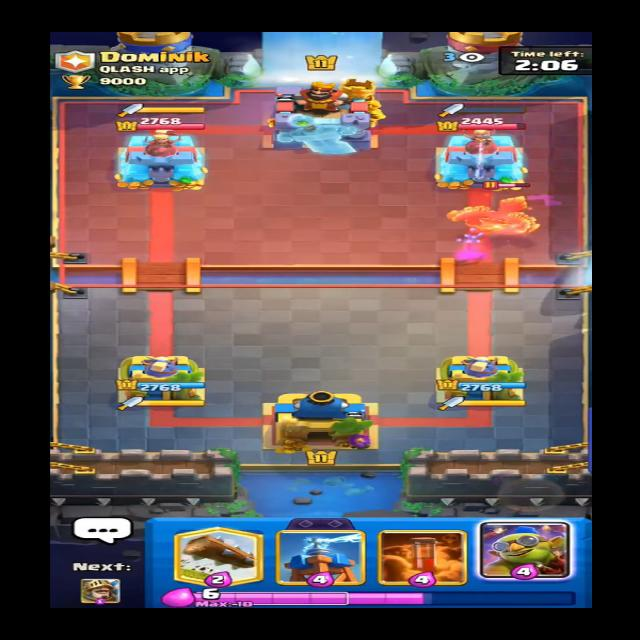phoenix: (448, 179, 554, 231)
